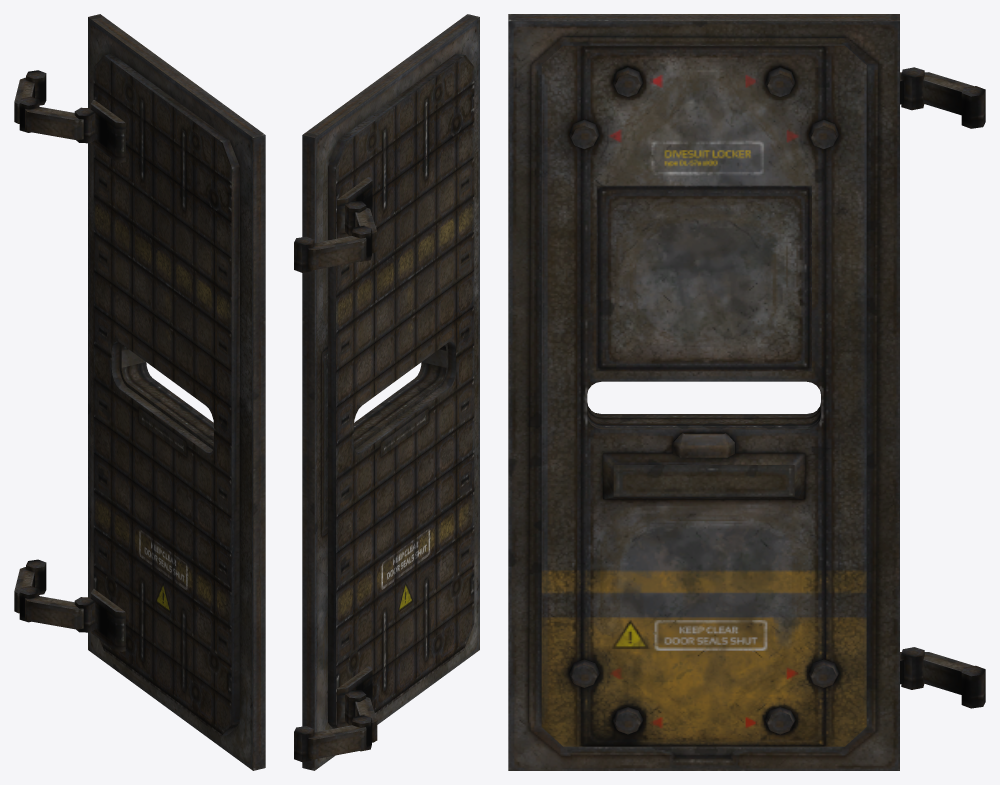
File: 03_02_diving_suit_locker_door.dae
3 views of the same model, side by side, from view 1: azimuth 30°, elevation 25°; view 2: azimuth 150°, elevation 25°; view 3: azimuth 270°, elevation 25° (orthographic). The views are drawn at different scales.
Visible parts, largest first — view 1: door; view 2: door; view 3: door.
Boxes of the visible parts, left/top/right/bottom form: door: left=14, top=14, right=265, bottom=770; door: left=294, top=14, right=479, bottom=770; door: left=508, top=14, right=985, bottom=770.
Size of the model in its own units: 0.4539 by 2.87 by 1.66.
